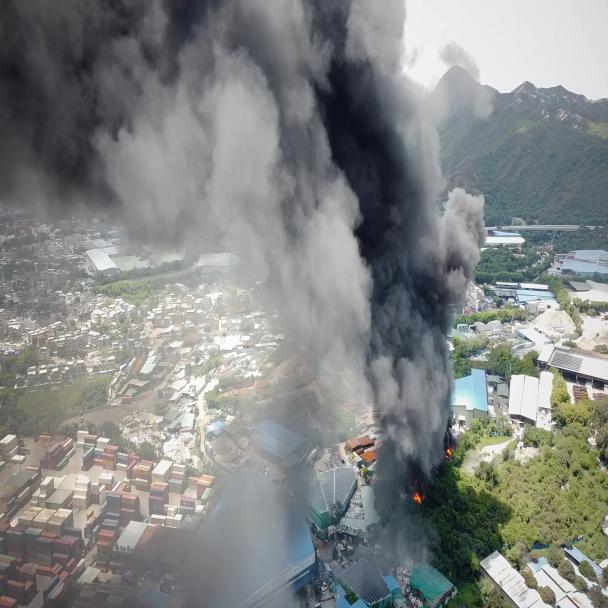Fire: (394, 434, 477, 518)
smoke: (0, 5, 487, 410)
